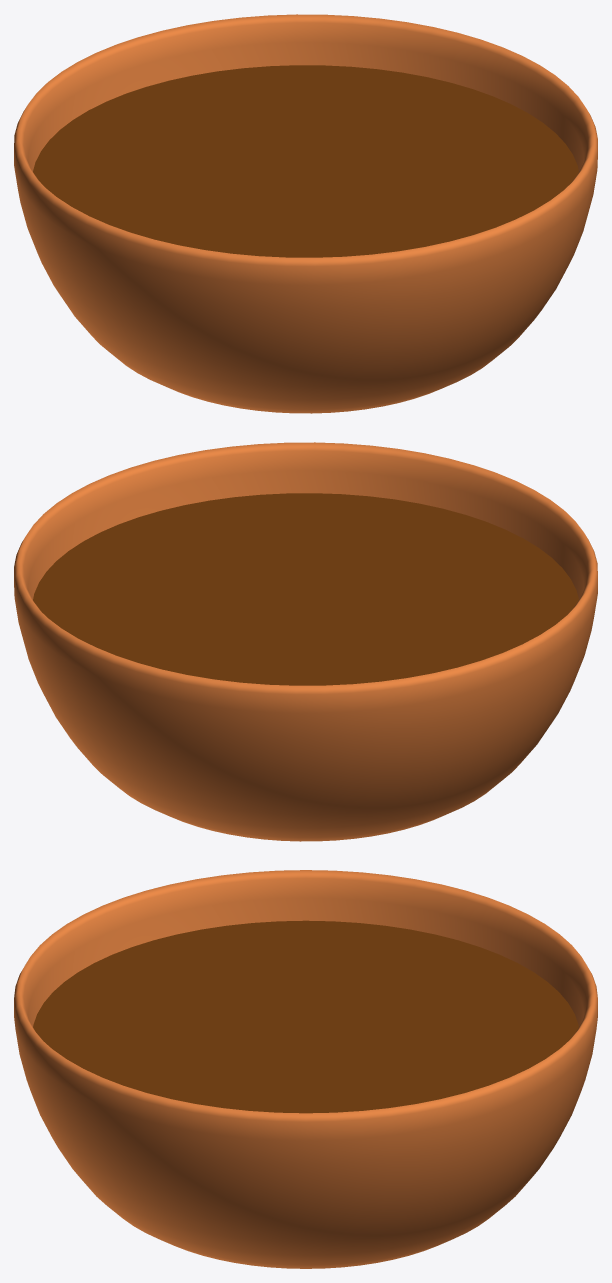
File: ClaySlip.fbx
3 renders of one model, top to bottom at view 1: azimuth 30°, elevation 25°; view 2: azimuth 150°, elevation 25°; view 3: azimuth 270°, elevation 25°, orthographic.
Parts seen in each view (by area): view 1: Bowl, Water; view 2: Bowl, Water; view 3: Bowl, Water.
Boxes of the visible parts, box(x1,y1,x2,y2) form: Bowl: box(14, 14, 597, 413); Water: box(33, 65, 578, 257); Bowl: box(14, 442, 597, 841); Water: box(33, 493, 578, 685); Bowl: box(14, 870, 597, 1268); Water: box(33, 920, 578, 1113).
Size of the model in its own units: 181 by 71.75 by 181.
